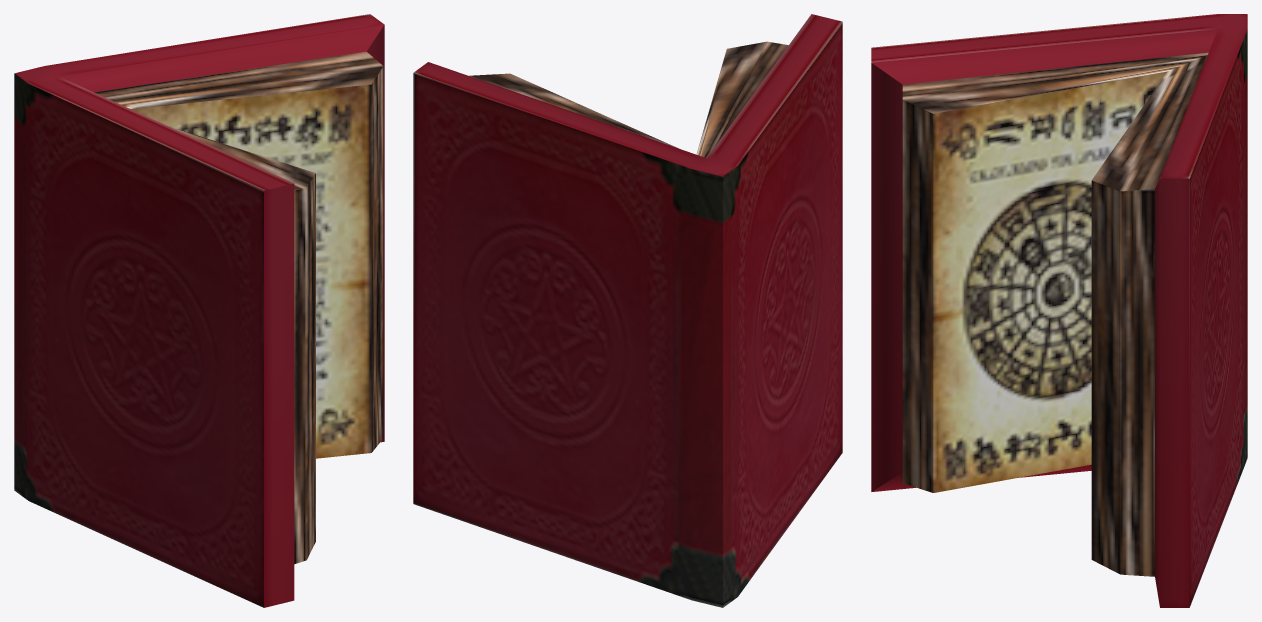
File: Prop_SM_Sorc_Book.fbx
3 views of the same model, side by side, from view 1: azimuth 30°, elevation 25°; view 2: azimuth 150°, elevation 25°; view 3: azimuth 270°, elevation 25° (orthographic). The views are drawn at different scales.
Visible parts, largest first — view 1: pCube1; view 2: pCube1; view 3: pCube1.
Boxes of the visible parts, <box> form: pCube1: <box>14,14,384,607</box>; pCube1: <box>413,14,842,607</box>; pCube1: <box>871,14,1247,607</box>.
Bounding box in the file's own units: 7.4 × 9 × 7.14.
Materials: 1 (1 with a texture image).
